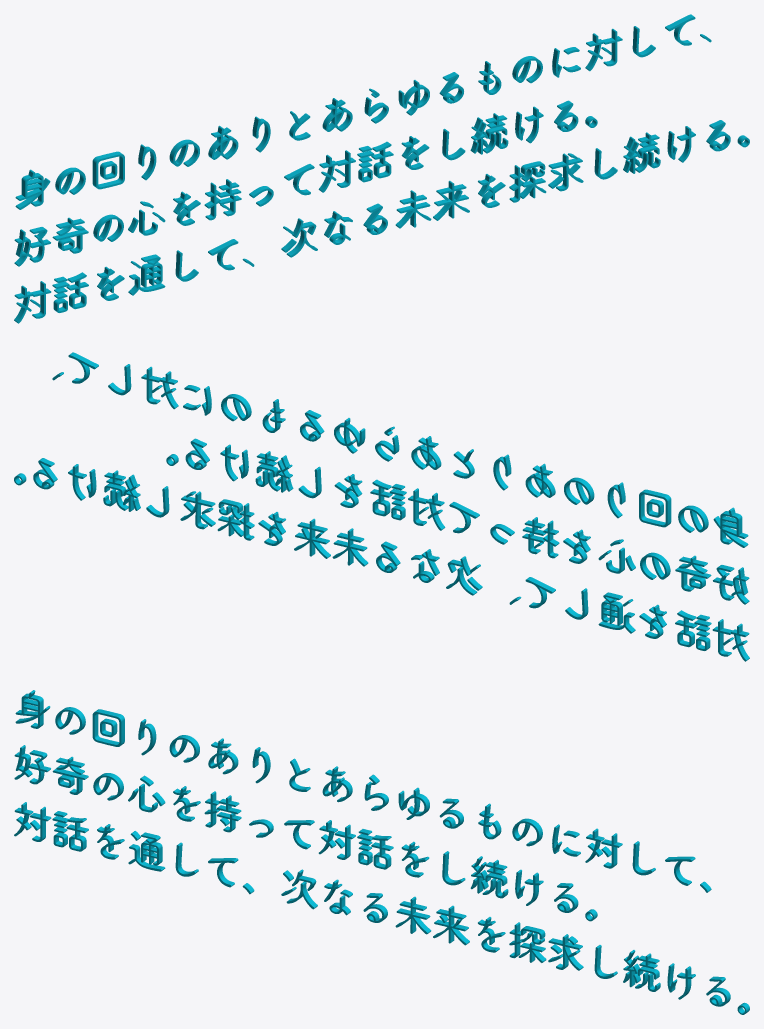
3 views of the same model, one above another, from view 1: azimuth 30°, elevation 25°; view 2: azimuth 150°, elevation 25°; view 3: azimuth 330°, elevation 25° (orthographic).
Visible parts, largest first — view 1: Path (×12); view 2: Path (×12); view 3: Path (×8).
Part boxes in pixels (box(x1,y1,x2,y2)): Path (×12): box(14, 113, 659, 312); Path (×12): box(104, 451, 749, 650); Path (×8): box(53, 709, 660, 990).
Bounding box in the file's own units: 2.31 × 0.4473 × 0.02.
